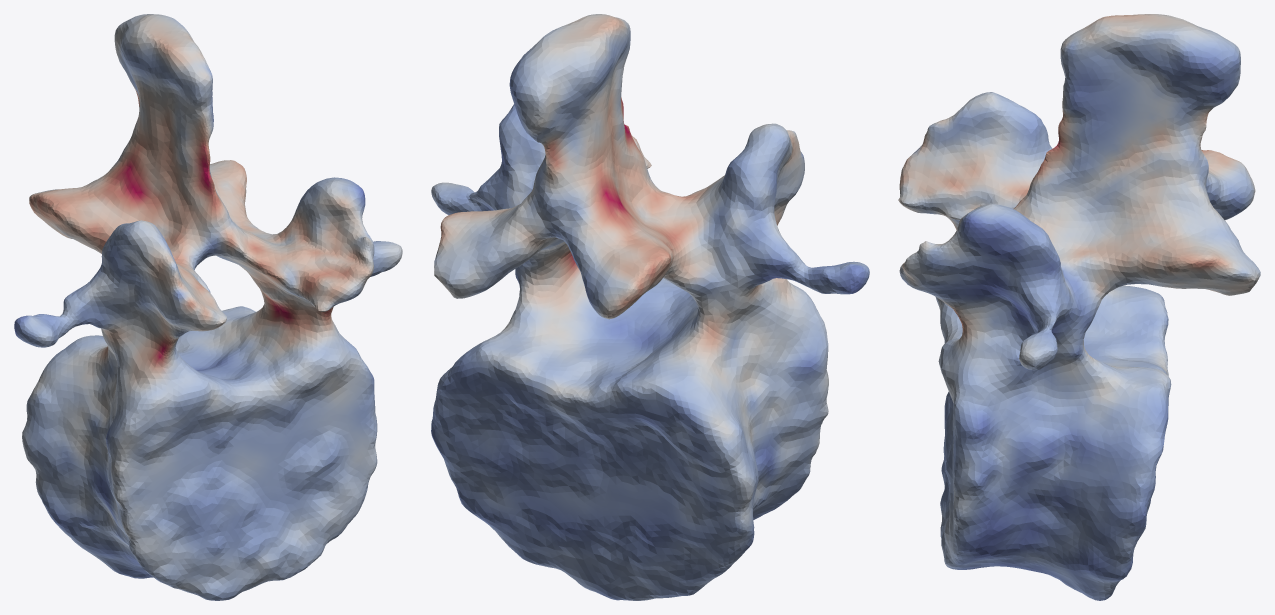
File: L1_colored_output.glb
3 renders of one model, left to right at view 1: azimuth 30°, elevation 25°; view 2: azimuth 150°, elevation 25°; view 3: azimuth 270°, elevation 25°, orthographic. The views are drawn at different scales.
Parts seen in each view (by area): view 1: Patient_004_L1+oriented.stl; view 2: Patient_004_L1+oriented.stl; view 3: Patient_004_L1+oriented.stl.
Part boxes in pixels (x1=…): Patient_004_L1+oriented.stl: x1=14, y1=14, x2=402, y2=600; Patient_004_L1+oriented.stl: x1=431, y1=14, x2=869, y2=600; Patient_004_L1+oriented.stl: x1=898, y1=14, x2=1260, y2=600.
Bounding box in the file's own units: 67.03 × 87.43 × 50.67.
